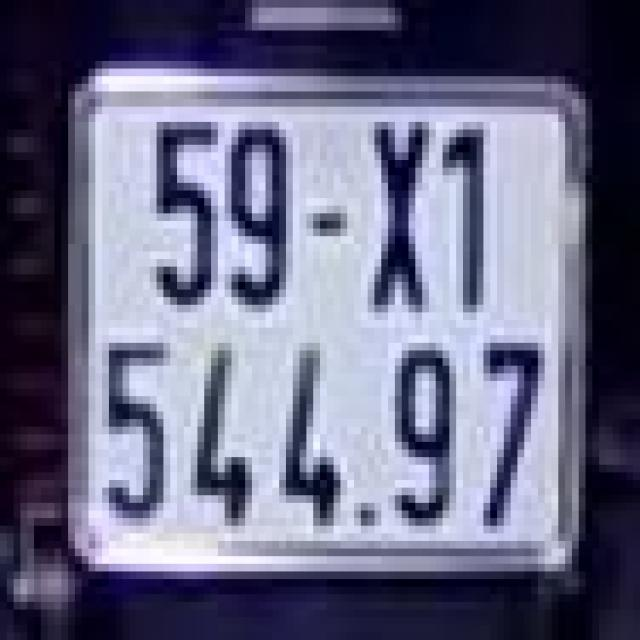1: (439, 118, 494, 324)
4: (276, 331, 350, 545), (190, 339, 258, 530)
5: (133, 107, 221, 320), (89, 332, 177, 537)
7: (470, 336, 544, 534)
9: (374, 336, 463, 534), (224, 114, 300, 320)
X: (354, 103, 436, 324)
